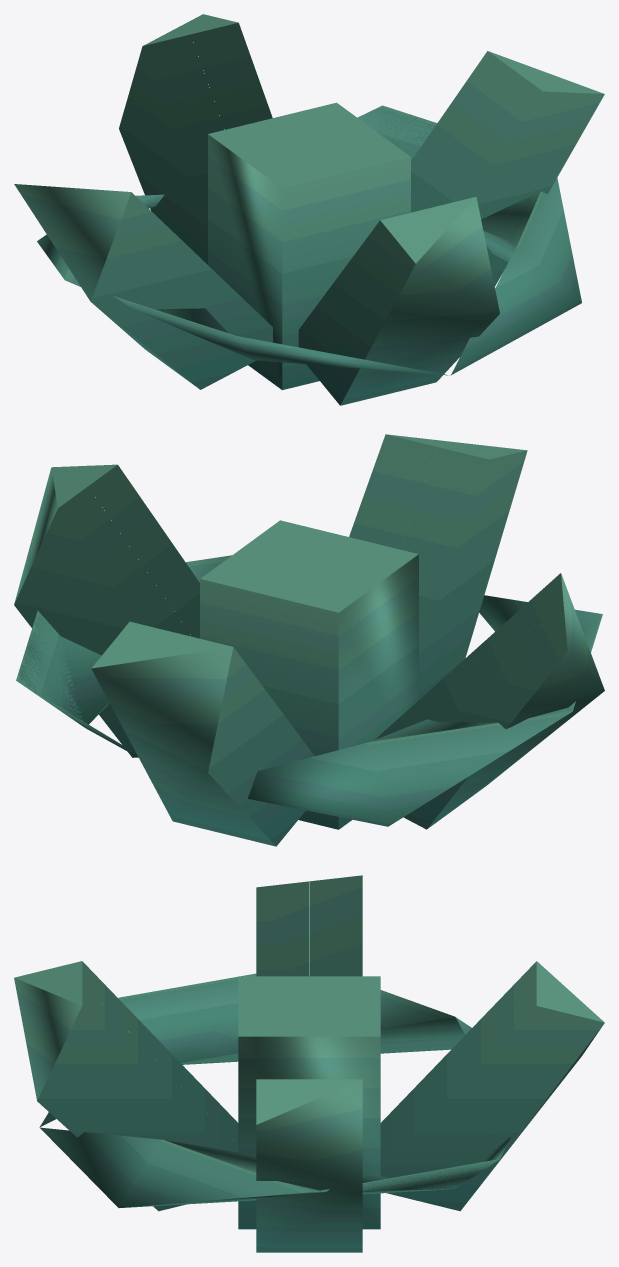
The model's file is fire-basket.glb.
The picture shows the model from 3 angles, top to bottom: view 1: azimuth 30°, elevation 25°; view 2: azimuth 150°, elevation 25°; view 3: azimuth 270°, elevation 25°; orthographic projection. The views are drawn at different scales.
Visible parts, largest first — view 1: fire-basket; view 2: fire-basket; view 3: fire-basket.
Boxes of the visible parts, bbox=[...] form: fire-basket: bbox=[14, 14, 604, 405]; fire-basket: bbox=[14, 434, 604, 846]; fire-basket: bbox=[14, 875, 604, 1252].
Size of the model in its own units: 0.4166 by 0.1679 by 0.4166.
Materials: 1 (1 with a texture image).
